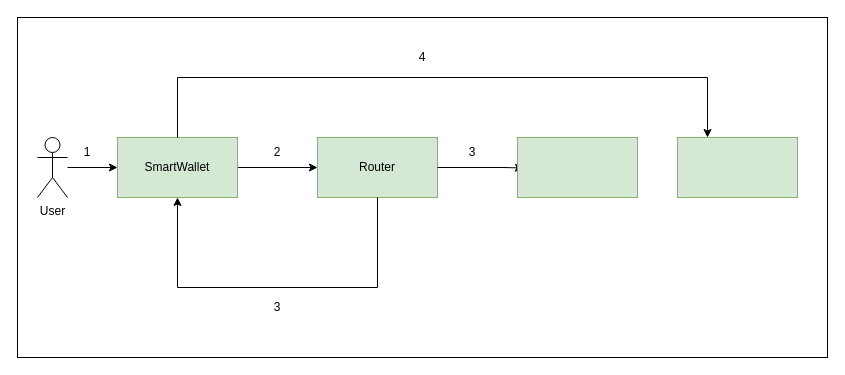
Some shapes in this 845 by 375 pixel diagram are drawn without their labels. The shapes that lost their labels are listed below. From the top down, each one's centre as x and y in pixels, then its label:
At point 577,167: "LiquidityPool".
At point 737,167: "MasterChef".
